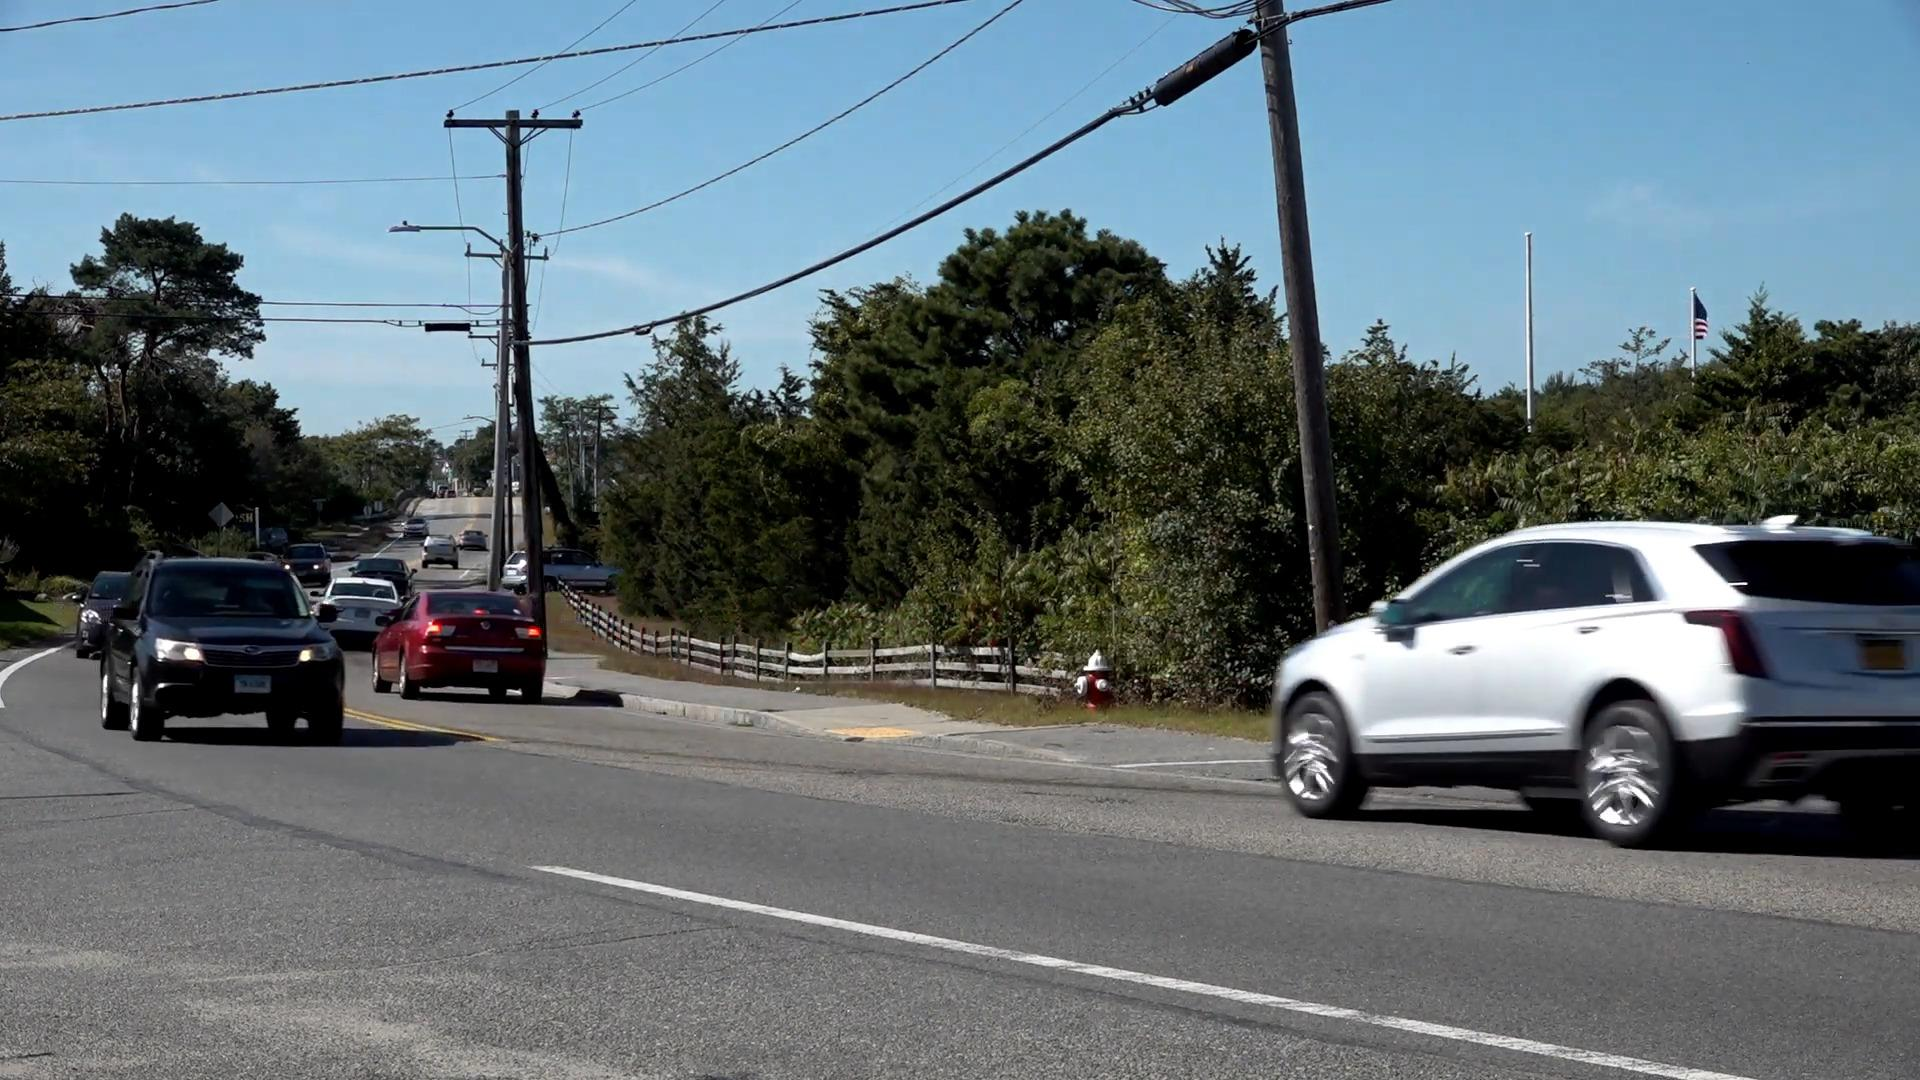sedans: (371, 582, 547, 705)
suv: (1271, 517, 1920, 851), (104, 551, 345, 752)
